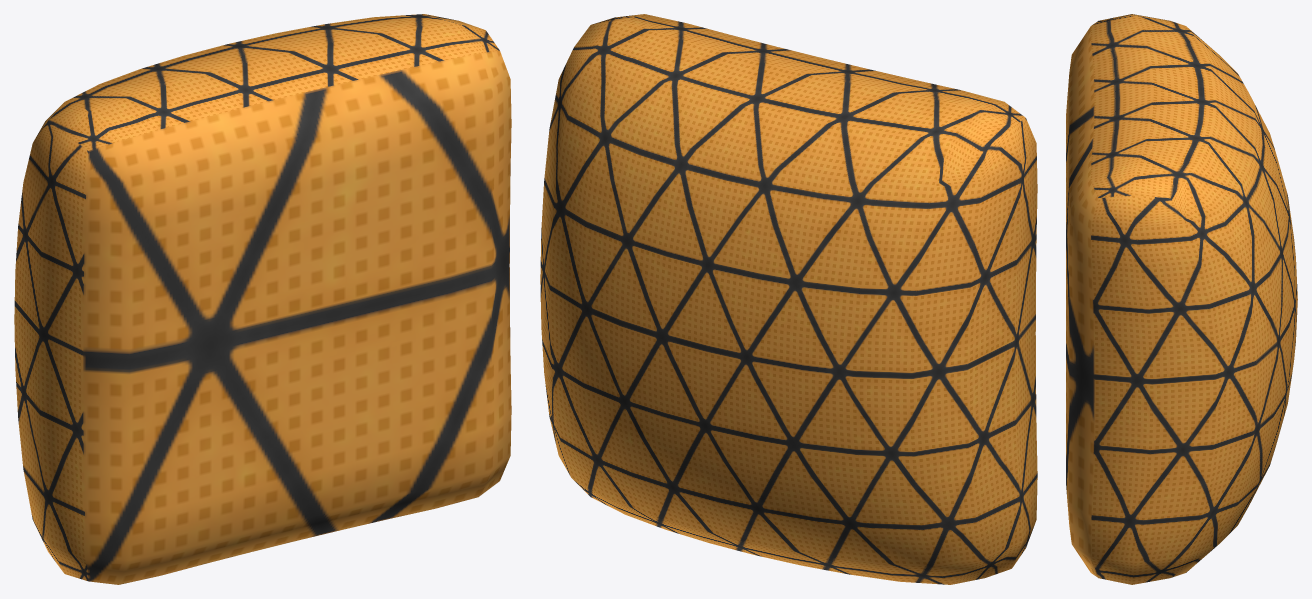
File: _paddle_mesh.fbx
The picture shows the model from 3 angles, left to right: view 1: azimuth 30°, elevation 25°; view 2: azimuth 150°, elevation 25°; view 3: azimuth 270°, elevation 25°; orthographic projection. The views are drawn at different scales.
Visible parts, largest first — view 1: paddle_obj.001; view 2: paddle_obj.001; view 3: paddle_obj.001.
Boxes of the visible parts, box(x1,y1,x2,y2) form: paddle_obj.001: box(14, 14, 511, 584); paddle_obj.001: box(540, 14, 1037, 584); paddle_obj.001: box(1066, 14, 1297, 584).
Bounding box in the file's own units: 19667 × 19667 × 9945.
